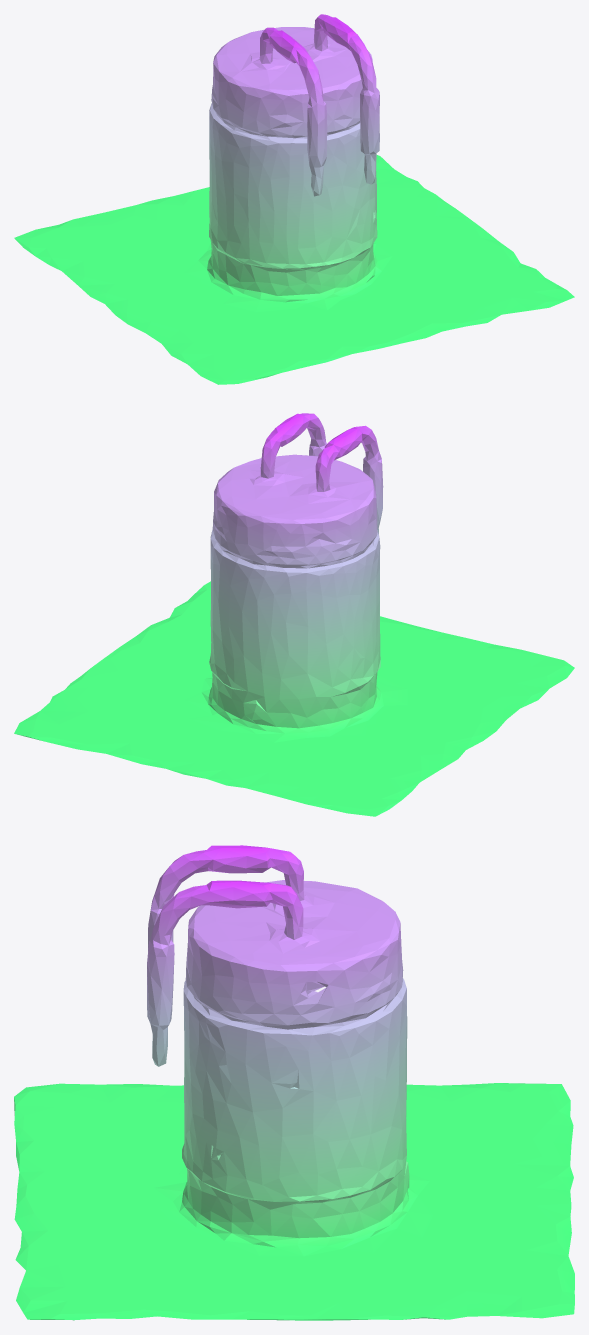
Rendered from 83_cyb_laser_gradient_fish_scales_2807_2026_10_03_417674.glb.
3 views of the same model, one above another, from view 1: azimuth 30°, elevation 25°; view 2: azimuth 150°, elevation 25°; view 3: azimuth 270°, elevation 25° (orthographic). The views are drawn at different scales.
Visible parts, largest first — view 1: geometry_0; view 2: geometry_0; view 3: geometry_0.
Boxes of the visible parts, bbox=[...] form: geometry_0: bbox=[14, 14, 574, 384]; geometry_0: bbox=[14, 413, 574, 816]; geometry_0: bbox=[14, 845, 574, 1320].
Size of the model in its own units: 1 by 0.6685 by 1.
